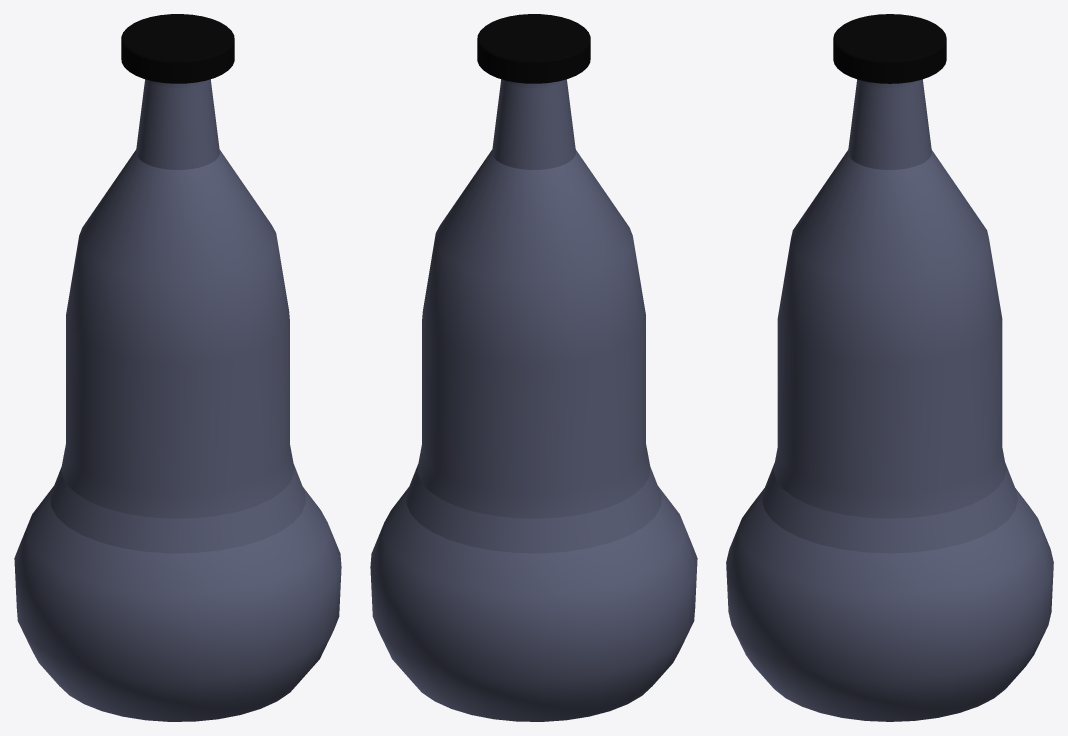
The model's file is bottle25.glb.
3 views of the same model, side by side, from view 1: azimuth 30°, elevation 25°; view 2: azimuth 150°, elevation 25°; view 3: azimuth 270°, elevation 25° (orthographic).
Visible parts, largest first — view 1: Bottle25; view 2: Bottle25; view 3: Bottle25.
Boxes of the visible parts, x1,y1,x2,y2 form: Bottle25: (14, 14, 341, 721); Bottle25: (370, 14, 697, 721); Bottle25: (726, 14, 1053, 721).
Bounding box in the file's own units: 2.07 × 4.4 × 2.07.
